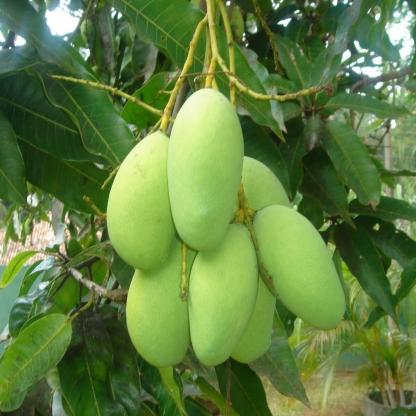--: (252, 192, 347, 350), (106, 119, 194, 288), (178, 217, 263, 379), (170, 85, 244, 258)
